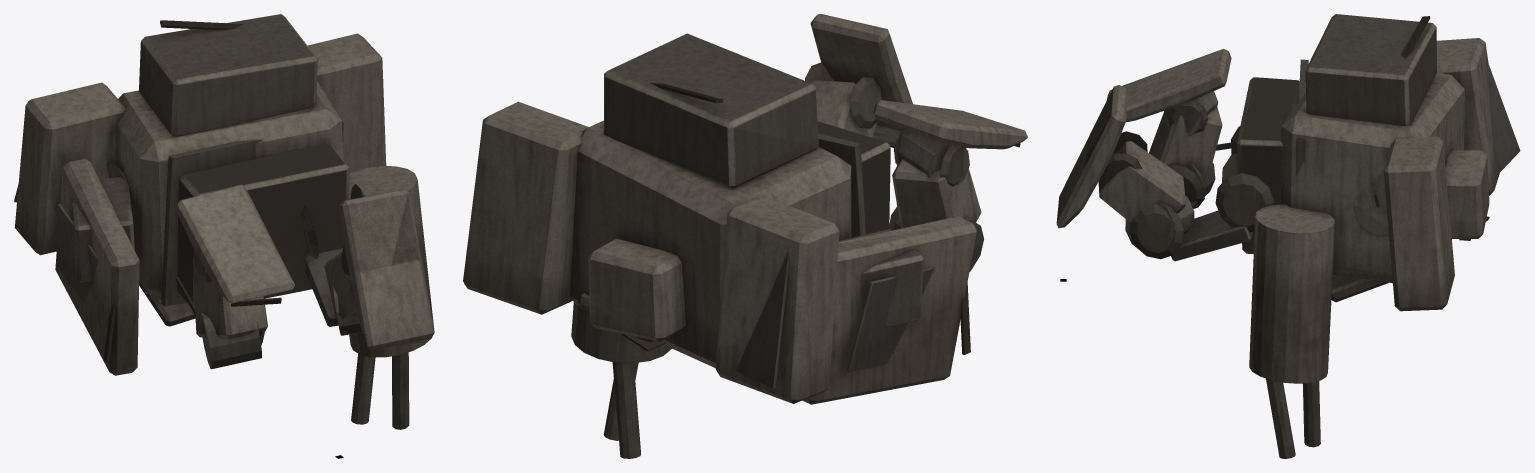
The model's file is ord_champion_wreck.fbx.
The picture shows the model from 3 angles, left to right: view 1: azimuth 30°, elevation 25°; view 2: azimuth 150°, elevation 25°; view 3: azimuth 270°, elevation 25°; orthographic projection. The views are drawn at different scales.
Visible parts, largest first — view 1: torso_bar, base_bar, footR_bar, footL_bar, shinL_bar, thighR_bar, thighL_bar, shinR_bar; view 2: torso_bar, shinL_bar, footR_bar, footL_bar, shinR_bar, base_bar, thighL_bar; view 3: torso_bar, thighR_bar, base_bar, shinR_bar, footL_bar, shinL_bar, footR_bar, thighL_bar.
Part boxes in pixels (x1,y1,x2,y2): torso_bar: (14,14,434,429); base_bar: (177,145,349,305); footR_bar: (339,189,434,350); footL_bar: (176,184,294,306); shinL_bar: (193,249,267,338); thighR_bar: (301,184,365,335); thighL_bar: (176,276,264,368); shinR_bar: (324,245,357,318); torso_bar: (463,33,976,458); shinL_bar: (892,129,981,228); footR_bar: (810,14,912,147); footL_bar: (873,100,1027,149); shinR_bar: (805,62,882,137); base_bar: (817,121,890,234); thighL_bar: (889,206,983,271); torso_bar: (1249,14,1520,458); thighR_bar: (1125,152,1274,261); base_bar: (1237,77,1299,253); shinR_bar: (1098,131,1185,222); footL_bar: (1107,48,1231,121); shinL_bar: (1149,91,1222,185); footR_bar: (1056,85,1127,228); thighL_bar: (1167,126,1240,208).
Size of the model in its own units: 1197 by 1268 by 1456.
2 materials, 2 textured.
